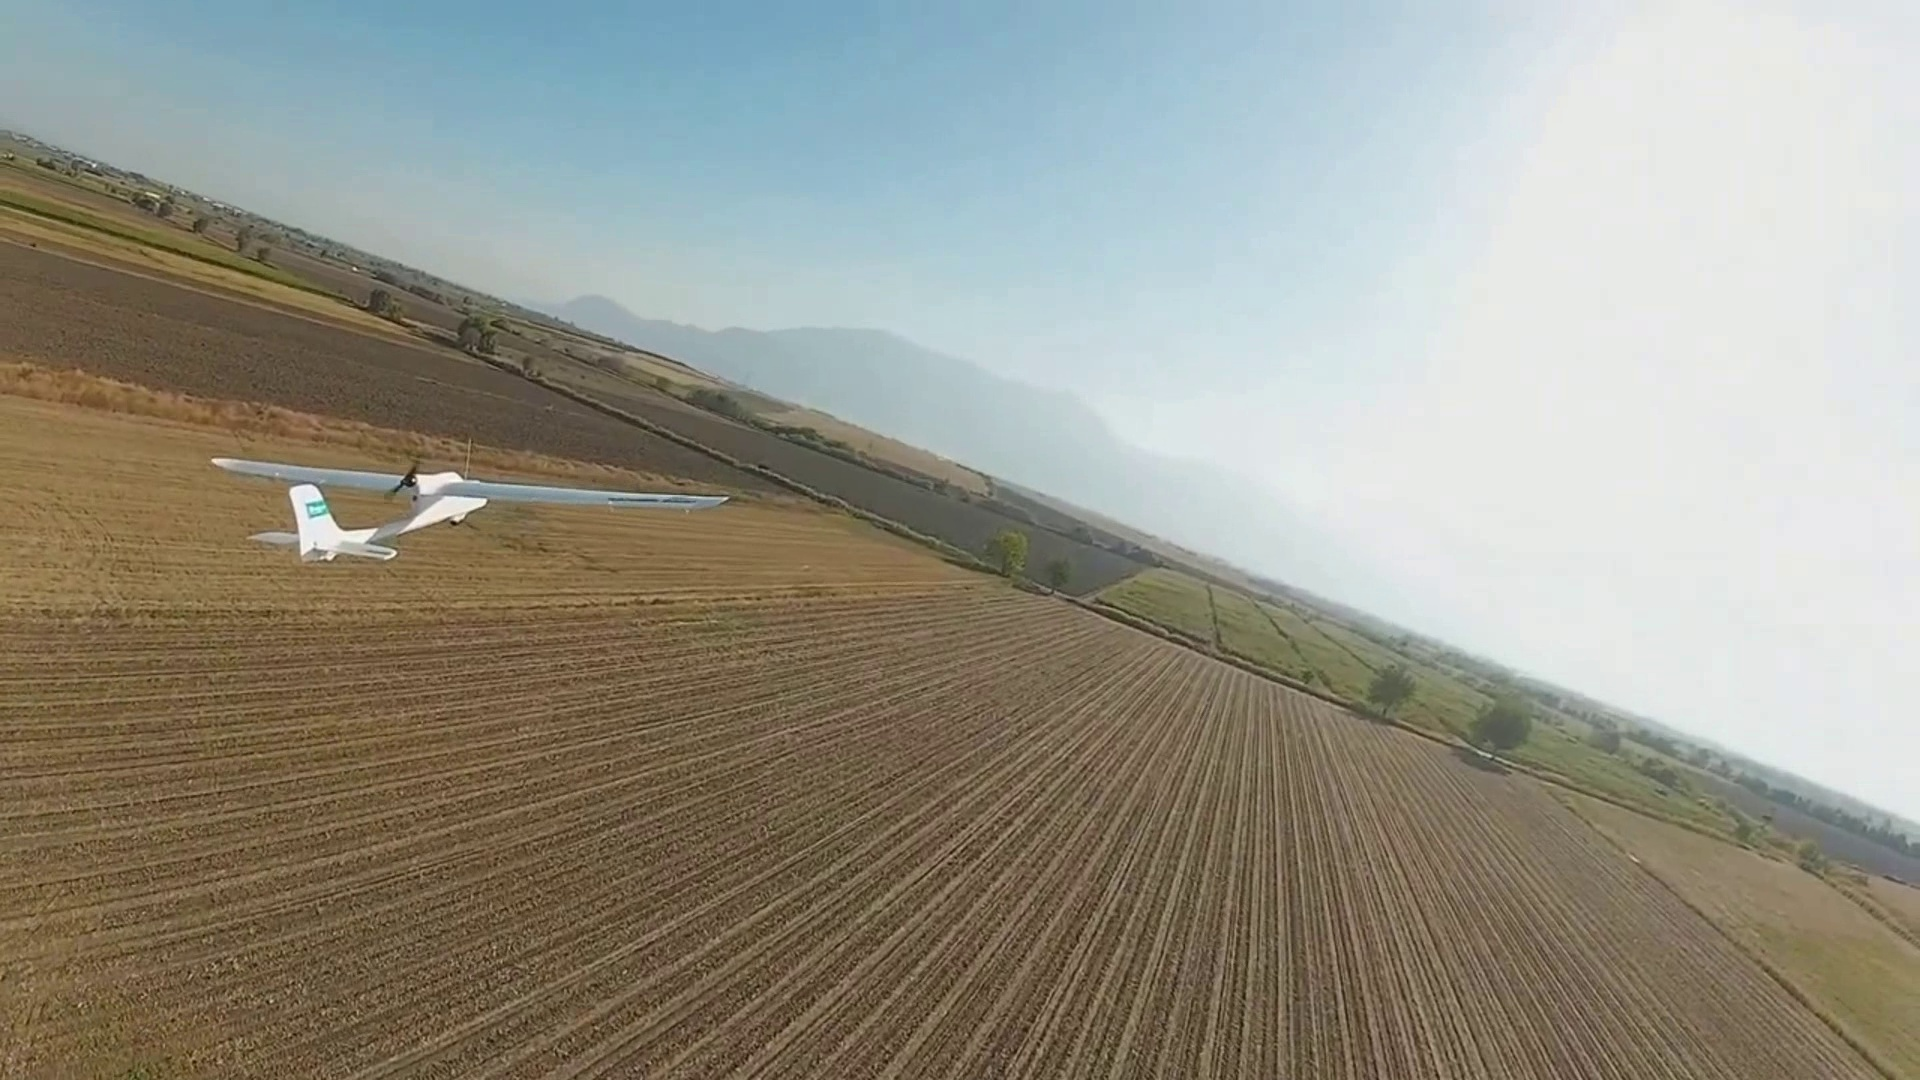airplane: (22, 252, 1920, 843), (210, 452, 720, 566), (208, 458, 495, 564)
